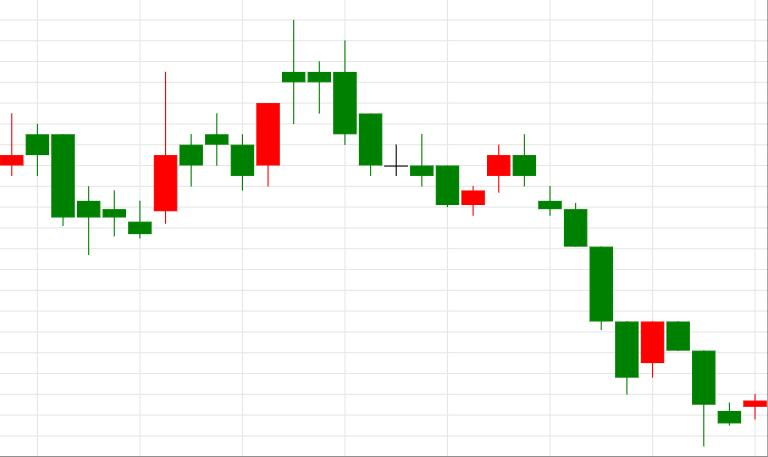three_black_crows_fall: (461, 134, 639, 394)
